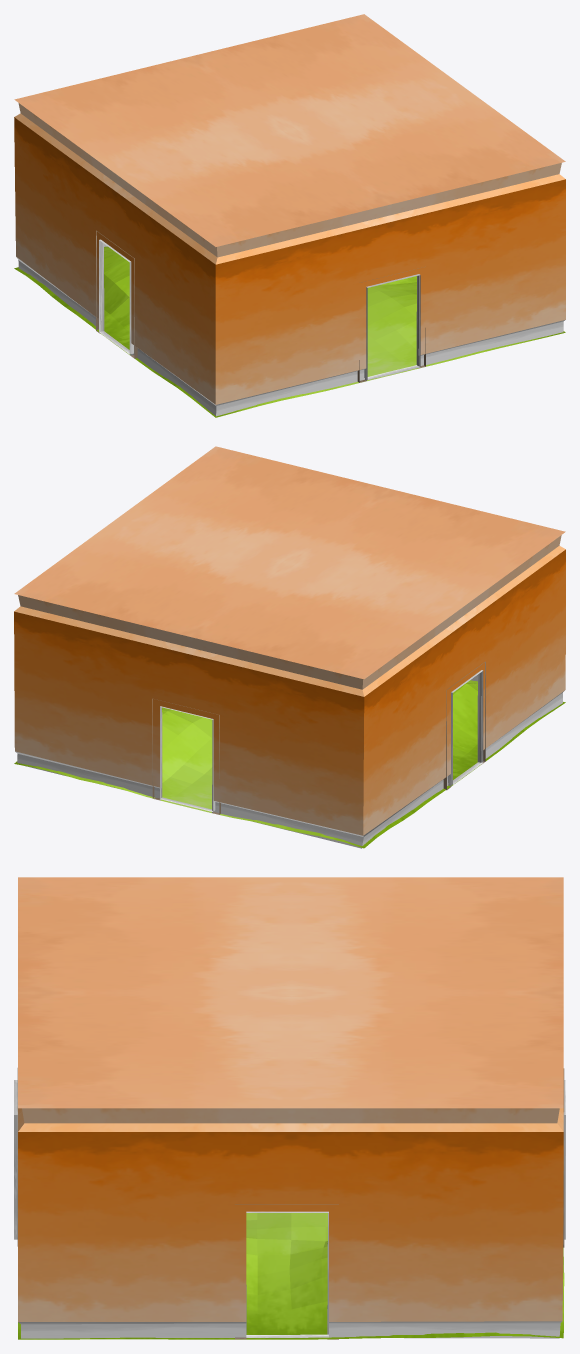
File: Room_10x10_04.gltf
The picture shows the model from 3 angles, top to bottom: view 1: azimuth 30°, elevation 25°; view 2: azimuth 150°, elevation 25°; view 3: azimuth 270°, elevation 25°; orthographic projection. The views are drawn at different scales.
Visible parts, largest first — view 1: Room_10x10_04; view 2: Room_10x10_04; view 3: Room_10x10_04.
Boxes of the visible parts, left/top/right/bottom form: Room_10x10_04: left=14, top=14, right=565, bottom=417; Room_10x10_04: left=14, top=446, right=565, bottom=848; Room_10x10_04: left=14, top=877, right=565, bottom=1339.
Size of what is drawn, in the model's own units: 10.03 by 4.63 by 10.01.
1 material, 1 textured.
